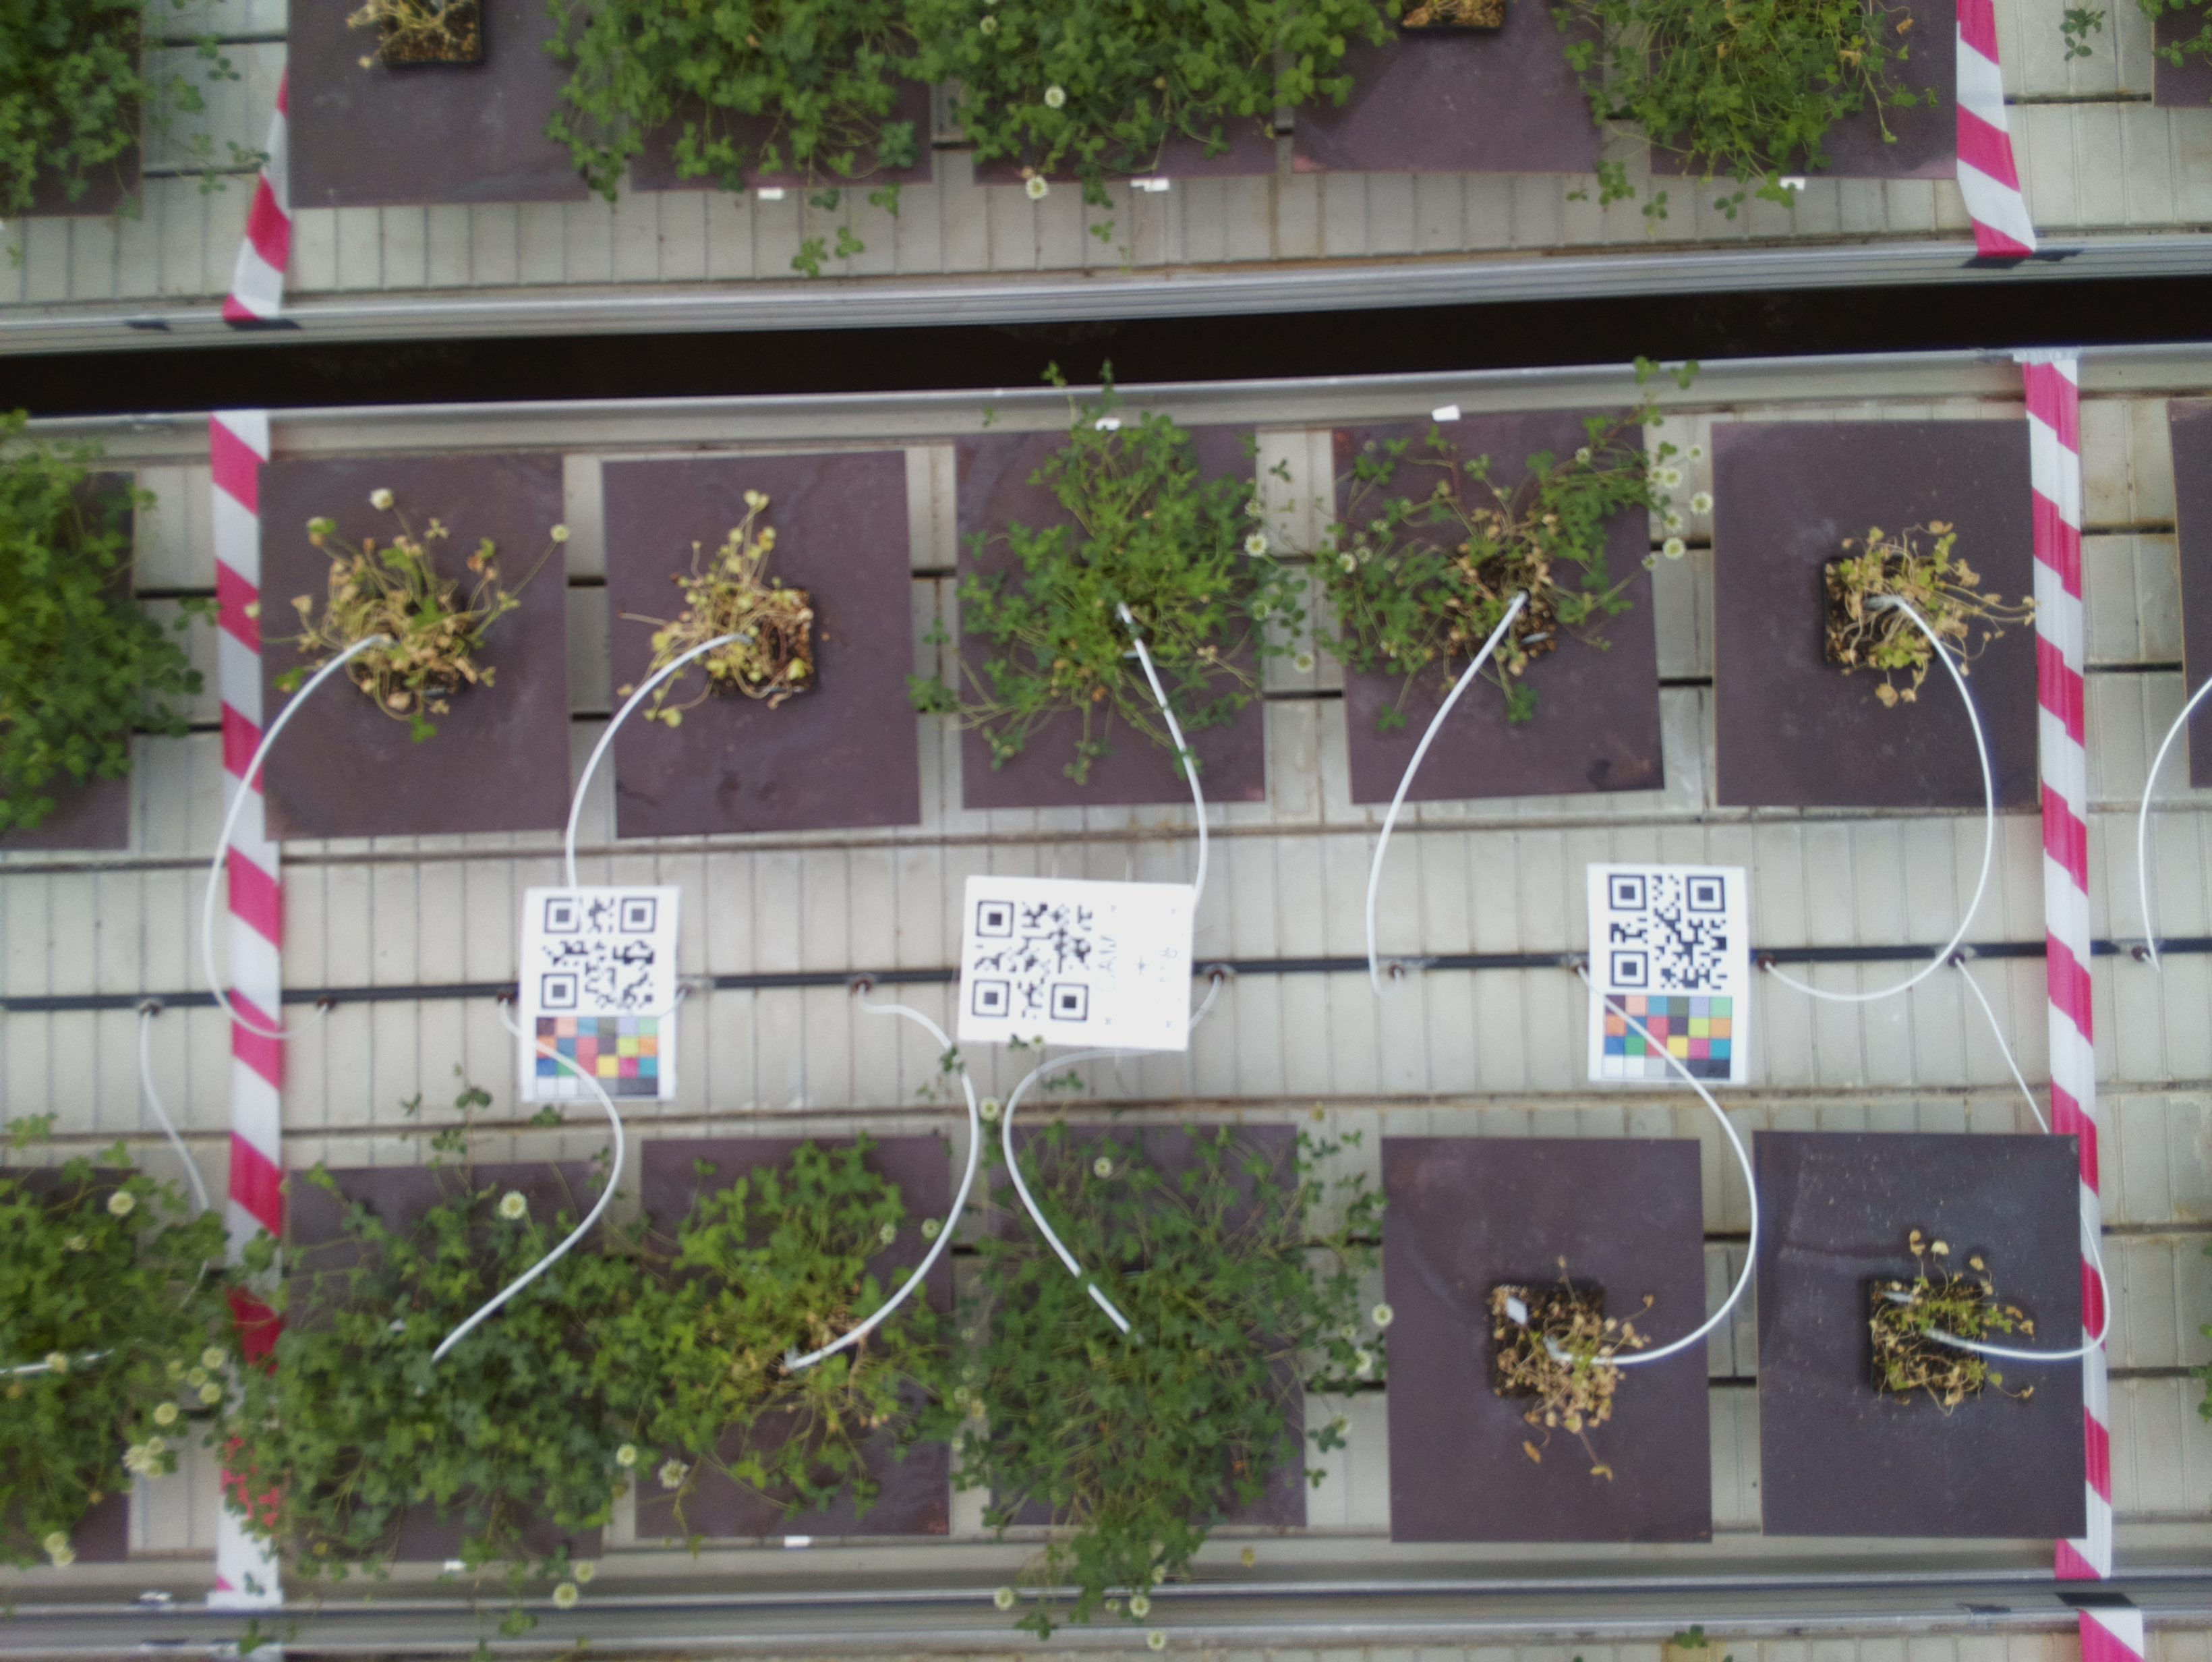POT: (1753, 1128, 2097, 1540), (1379, 1135, 1716, 1547), (1713, 419, 2058, 814), (993, 1123, 1316, 1529), (1329, 424, 1673, 801), (285, 1173, 606, 1568), (639, 1138, 948, 1538), (602, 459, 925, 836), (257, 463, 574, 833), (957, 433, 1273, 801)
QRCODE: (953, 876, 1196, 1047)
QRCOLOR: (513, 885, 679, 1102), (1589, 866, 1748, 1088)
